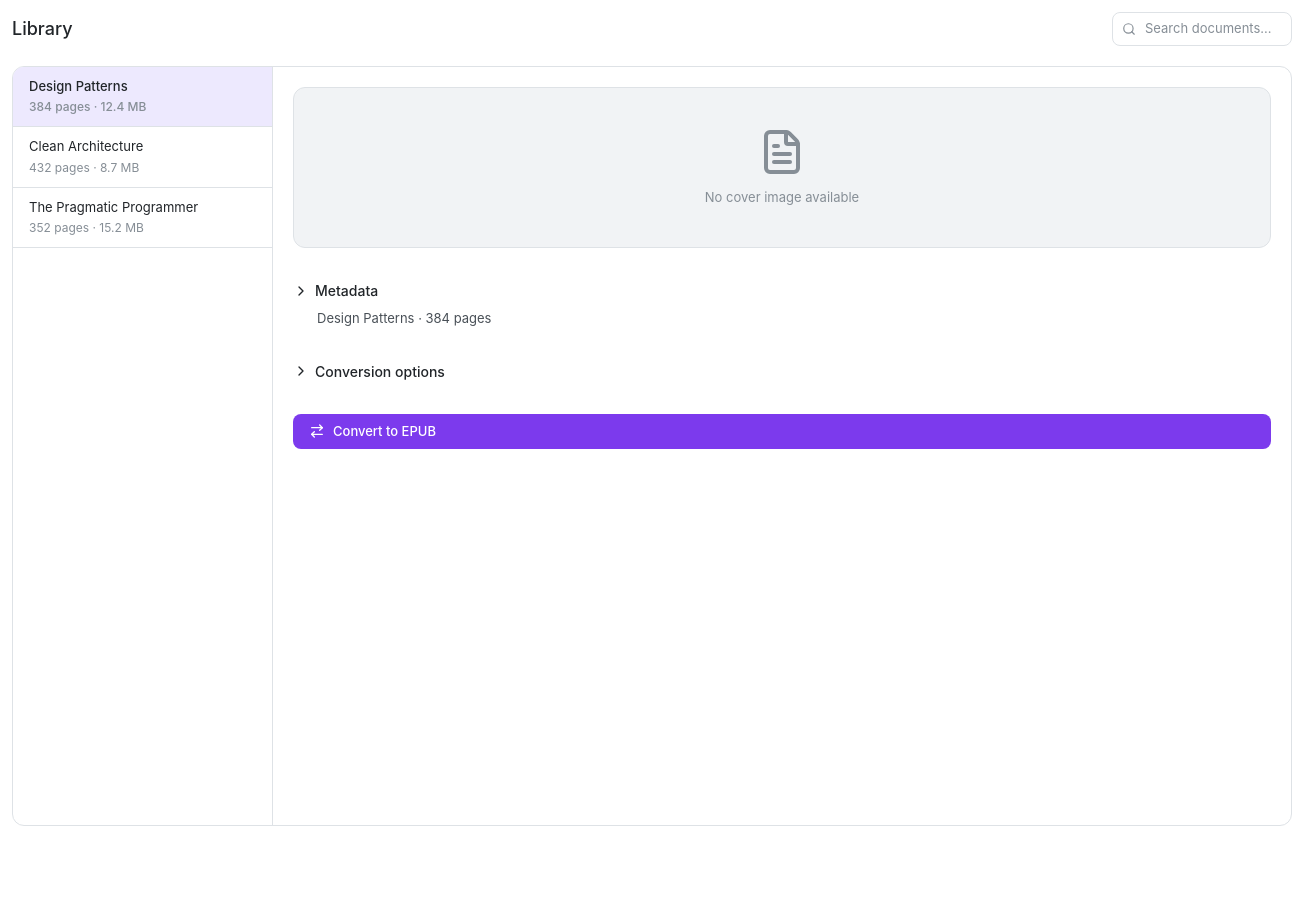
it: LibraryScreen › filters document list by search query
Type "clean" into the field with placeholder "Search documents...".
click(1202, 29); type("clean")  # box 1112,12 -> 1292,46
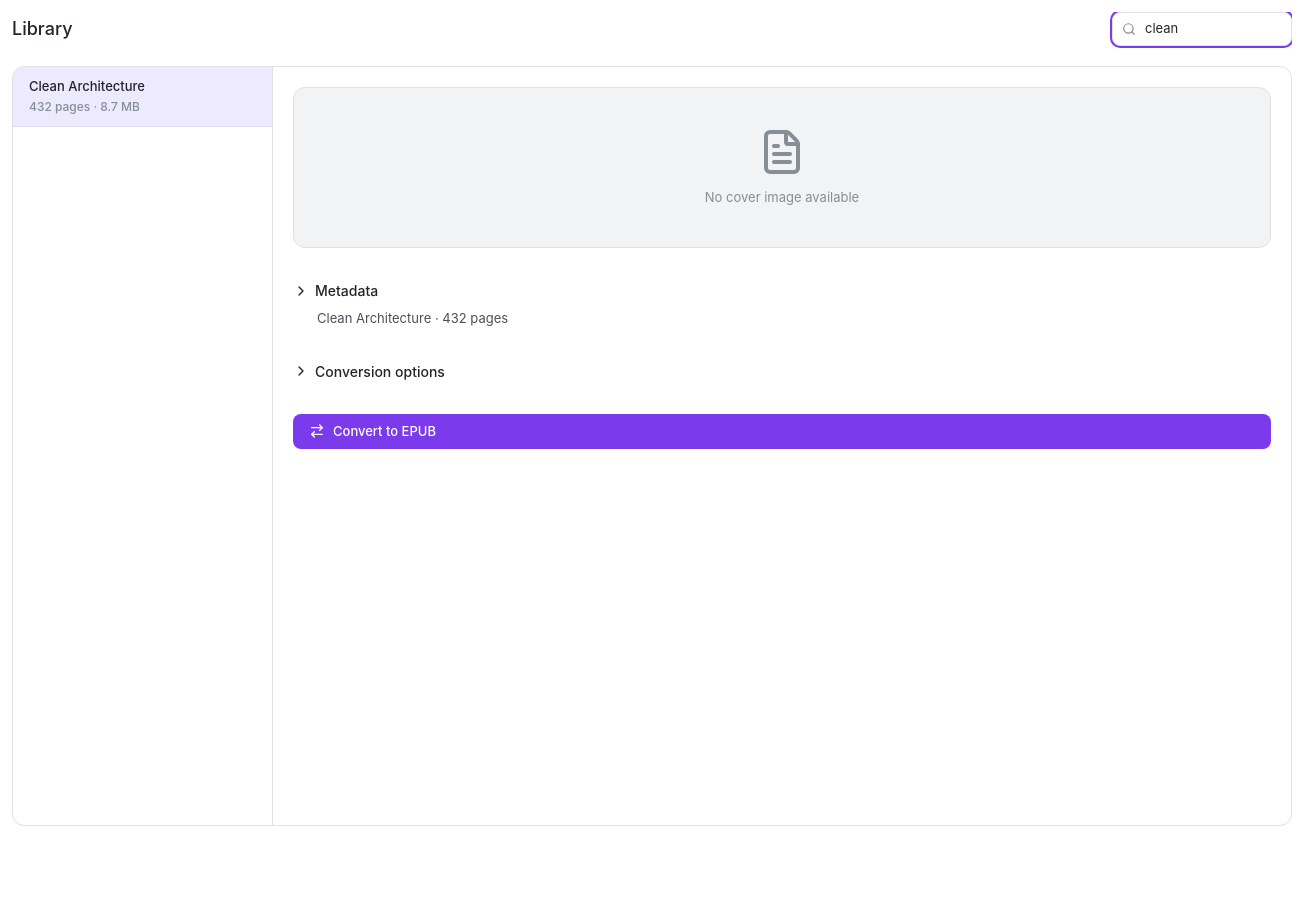
Expected: the text "Clean Architecture" is shown, 29,76 -> 145,96
Now the option "Design Patterns" is gone
Now the option "The Pragmatic Programmer" is gone
